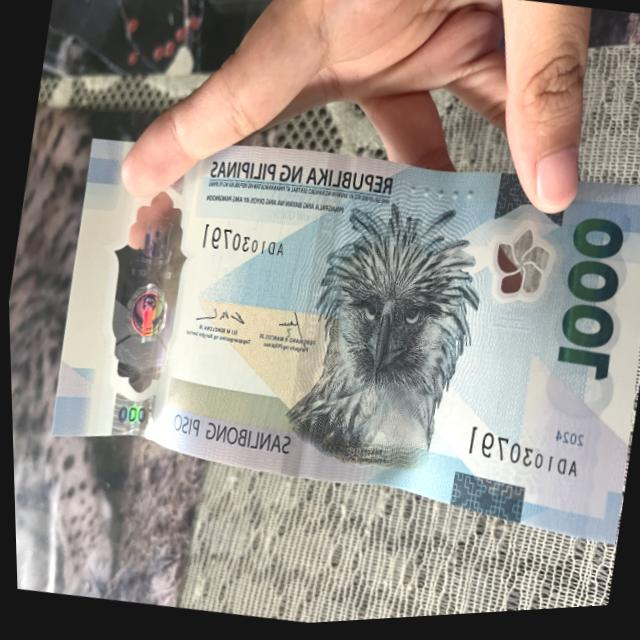clear_window: (74, 155, 211, 417)
eagle: (286, 205, 479, 487)
sampaguita: (472, 211, 561, 356)
security_thread: (268, 156, 358, 480)
serial_number: (447, 419, 591, 508), (187, 212, 299, 278)
value_watermark: (101, 390, 160, 438)
